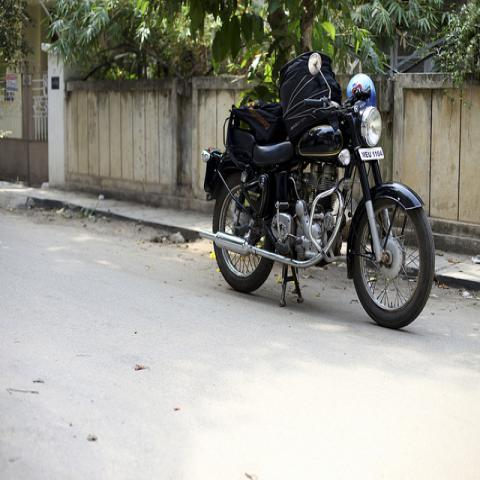motorcycle: (200, 46, 437, 334)
